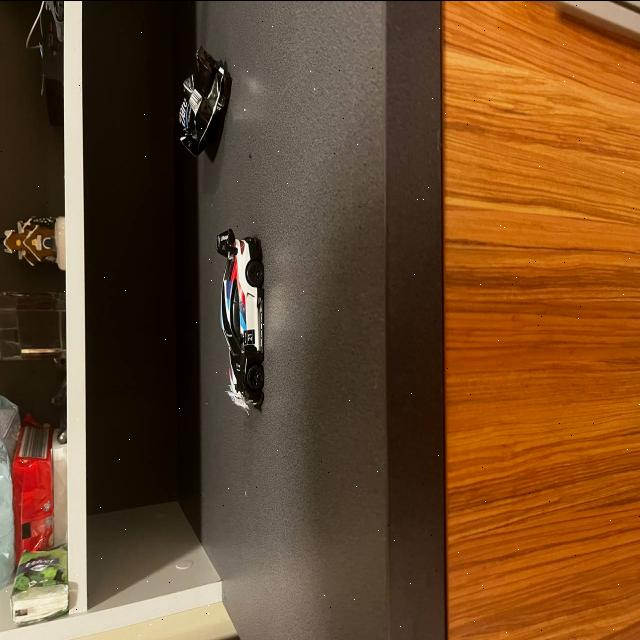KX 7777 KX: (222, 386, 254, 410)
